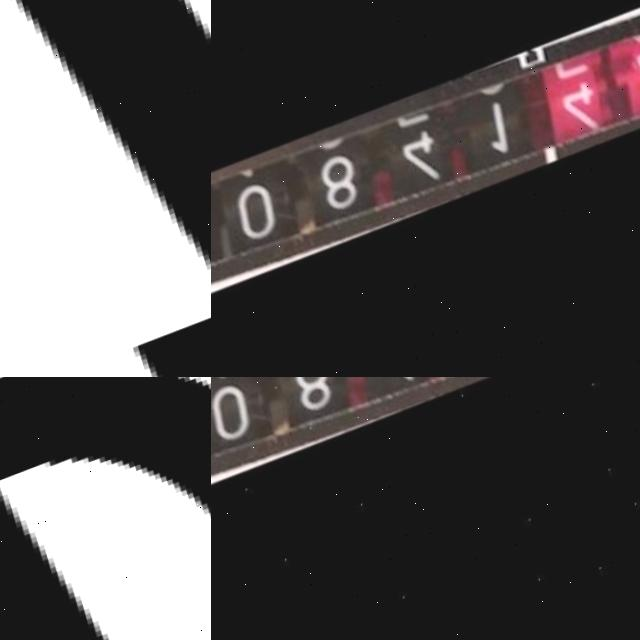0: (232, 179, 286, 248), (211, 379, 259, 449)
1: (478, 101, 522, 166)
4: (554, 82, 611, 150), (398, 129, 452, 200), (371, 377, 425, 400)
8: (314, 152, 370, 220), (288, 377, 344, 421)
D: (0, 377, 211, 640)
T: (0, 0, 211, 377)
